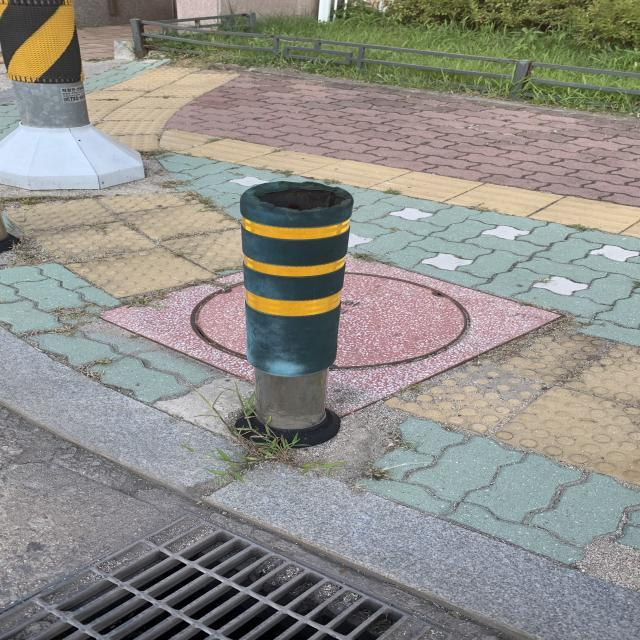pole: (238, 181, 352, 446)
